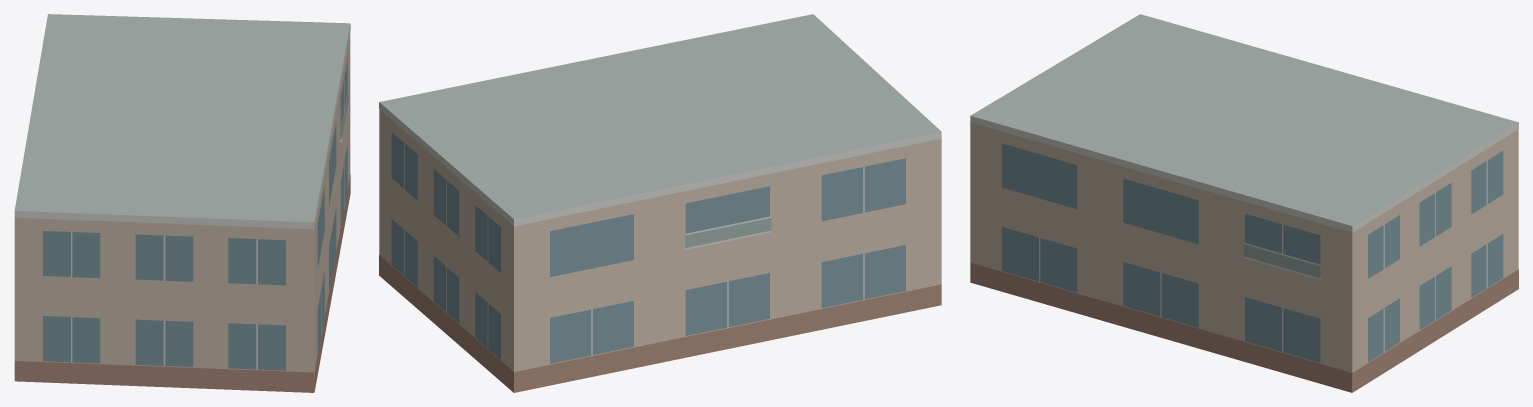
The model's file is survey-upis-32770835.glb.
3 renders of one model, left to right at view 1: azimuth 30°, elevation 25°; view 2: azimuth 150°, elevation 25°; view 3: azimuth 270°, elevation 25°, orthographic. The views are drawn at different scales.
Parts seen in each view (by area): view 1: survey-upis-32770835.tmp; view 2: survey-upis-32770835.tmp; view 3: survey-upis-32770835.tmp.
Boxes of the visible parts, x1=… form: survey-upis-32770835.tmp: x1=14, y1=14, x2=350, y2=392; survey-upis-32770835.tmp: x1=379, y1=14, x2=941, y2=392; survey-upis-32770835.tmp: x1=970, y1=14, x2=1518, y2=392.
Size of the model in its own units: 16.65 by 6.1 by 18.19.
